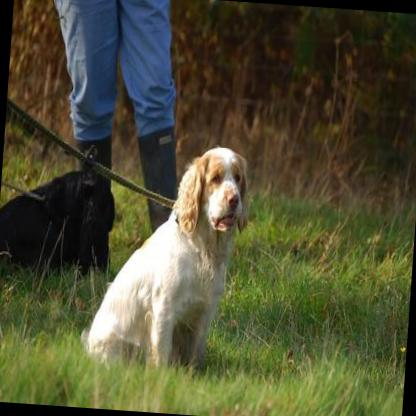clumber: (76, 135, 250, 377)
